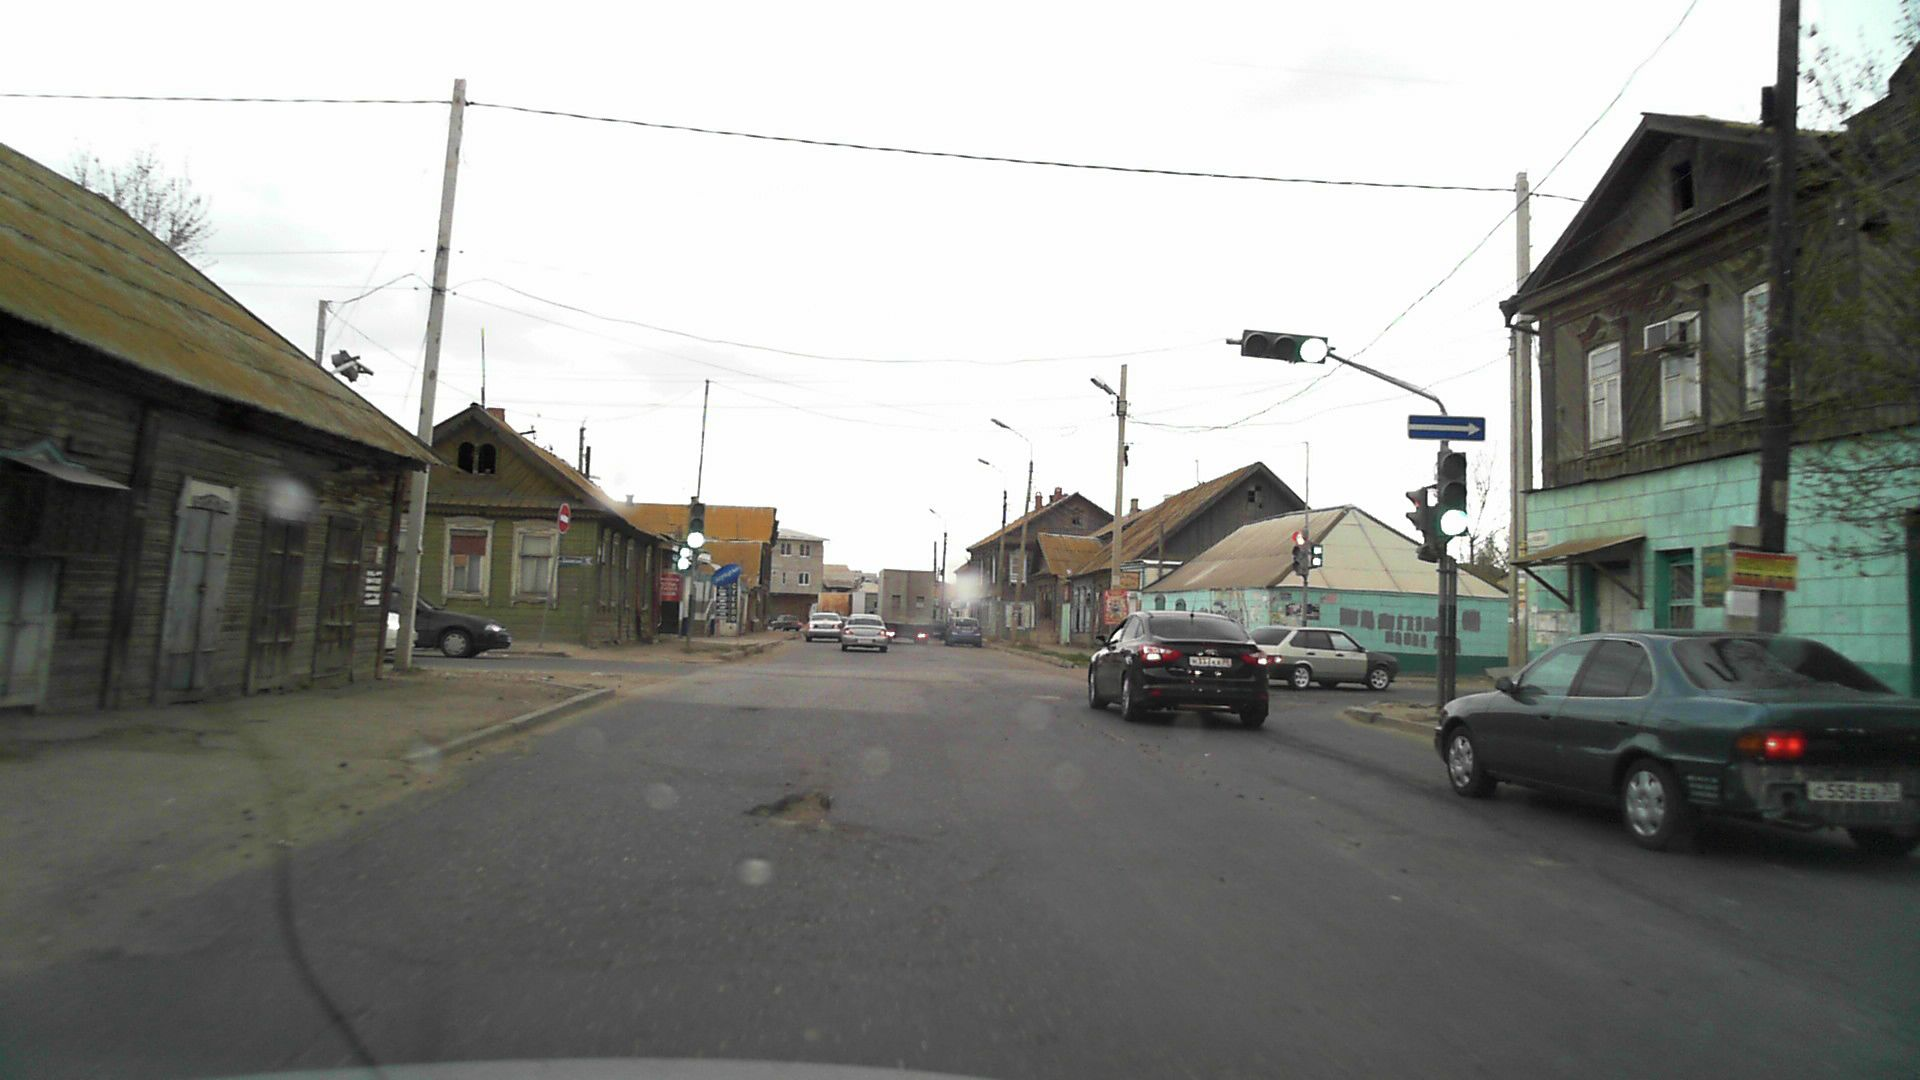One-Way Traffic: (1408, 415, 1485, 442)
